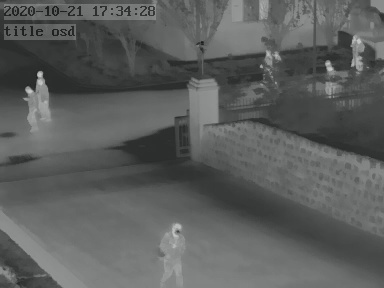person: (159, 220, 186, 288), (23, 71, 43, 130), (33, 70, 51, 122), (351, 34, 366, 72)
